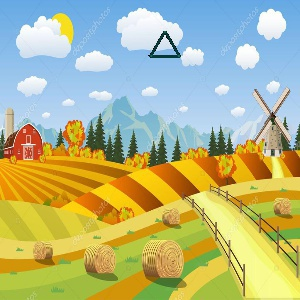triangle: (146, 28, 183, 60)
